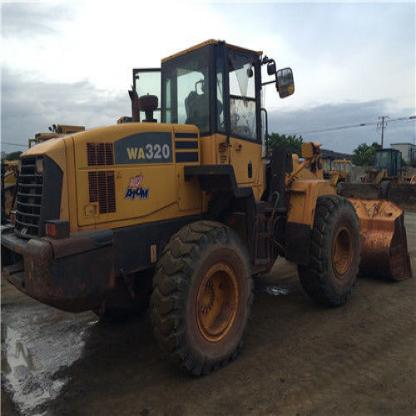bull_dozer/loader/grader: (8, 32, 415, 383)
